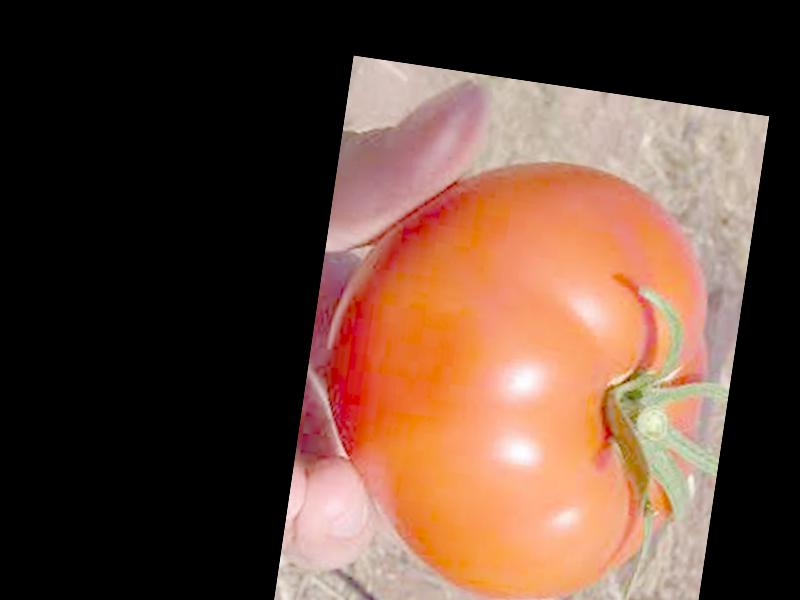Tomato: (300, 140, 731, 600)
